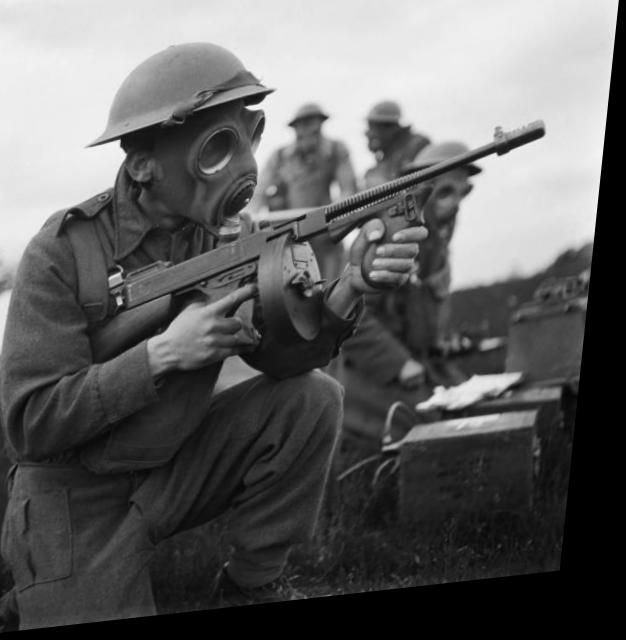other: (0, 34, 277, 618), (378, 145, 485, 397), (264, 94, 363, 230), (362, 91, 424, 204)
